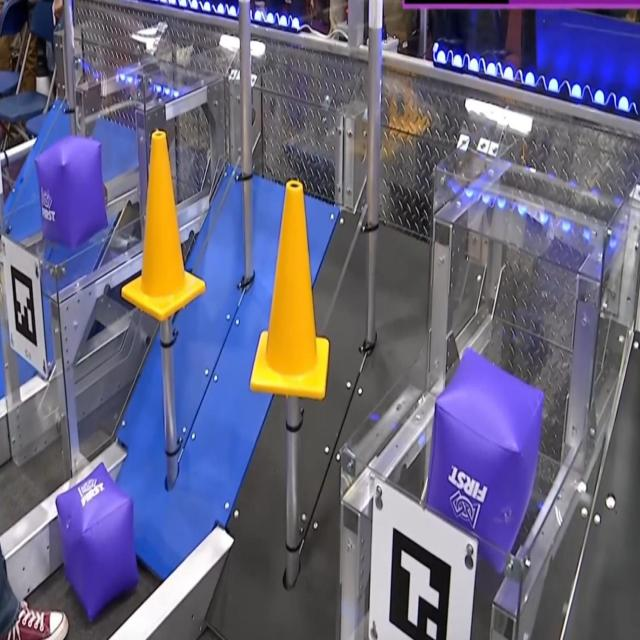frc_cone: (251, 178, 328, 401), (123, 130, 207, 322)
frc_cube: (422, 341, 544, 576), (54, 460, 137, 618), (37, 137, 108, 247)
